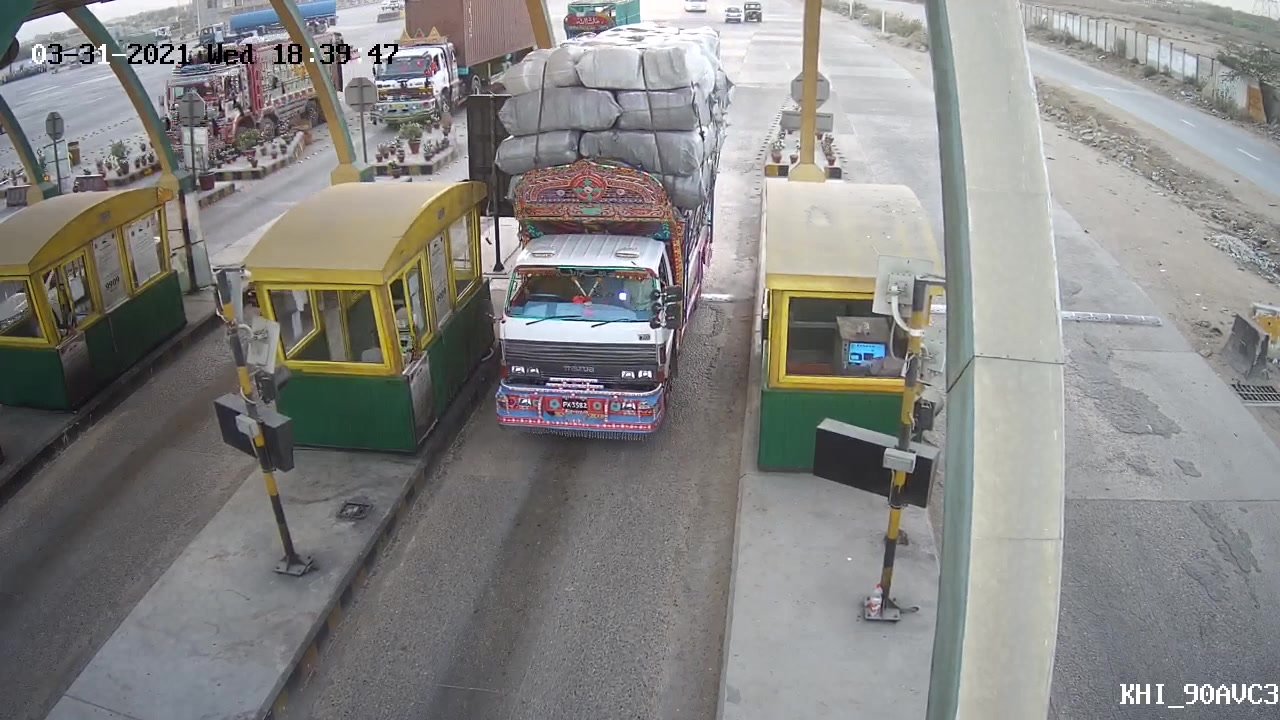F3: (468, 13, 733, 445)
